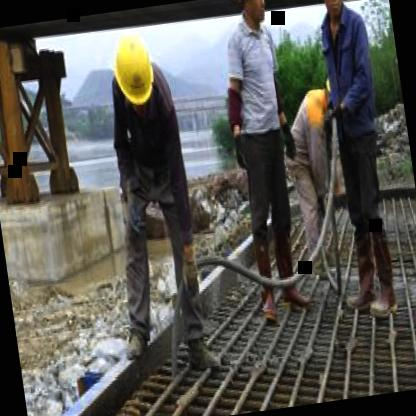helmet: (105, 25, 161, 116), (232, 0, 271, 31), (313, 0, 353, 22)
